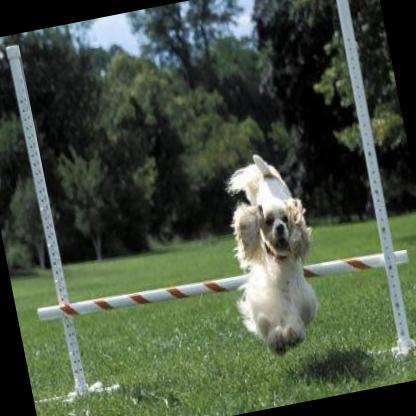cocker_spaniel: (205, 141, 335, 363)
